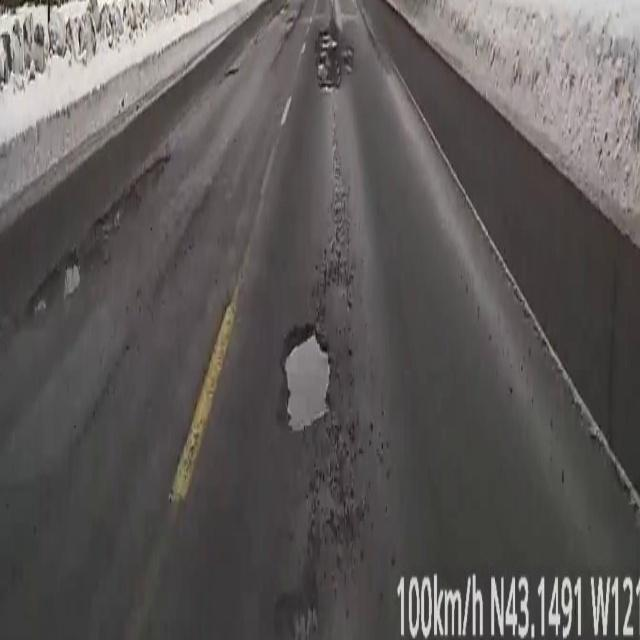pothole: (24, 149, 168, 332), (282, 319, 332, 434), (317, 30, 352, 86)
